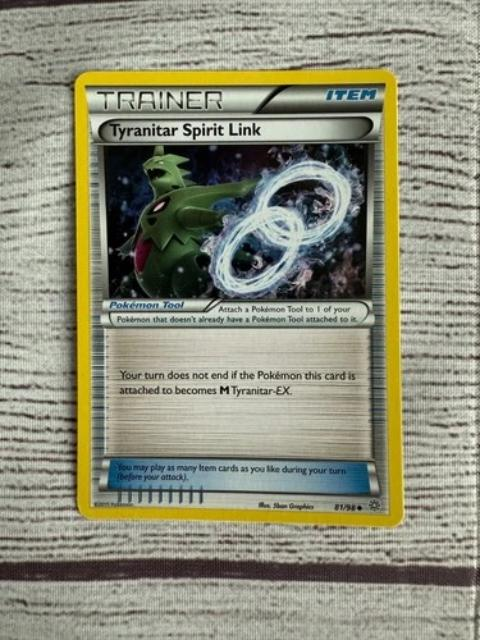Card: (70, 66, 406, 529)
Name: (97, 115, 267, 140)
